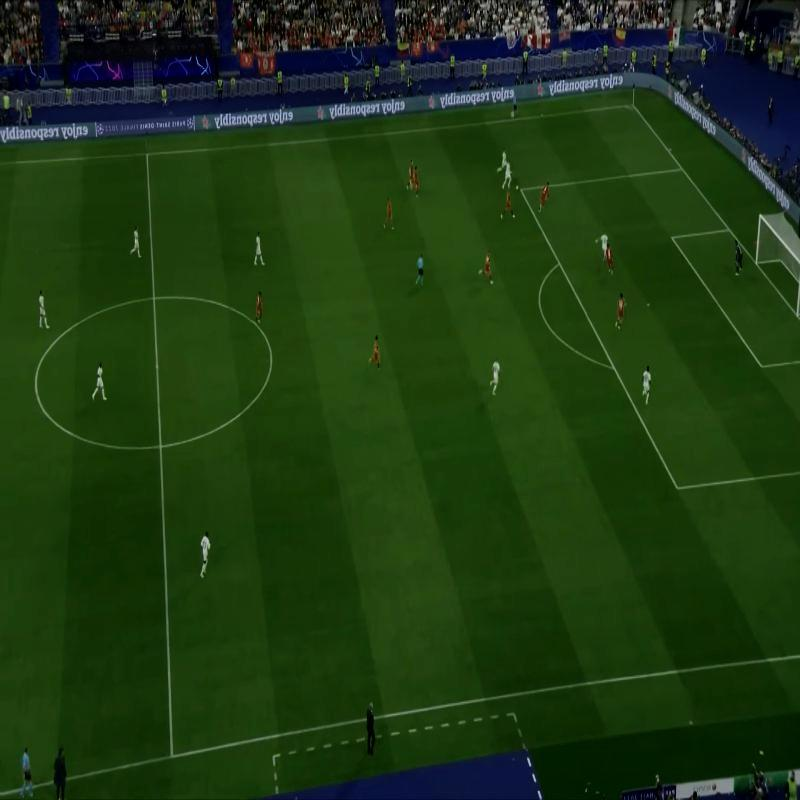1: (626, 97, 640, 113)
10: (550, 256, 568, 272)
11: (606, 358, 622, 378)
12: (668, 478, 686, 496)
13: (138, 148, 156, 164)
14: (146, 290, 162, 307)
15: (151, 436, 169, 454)
16: (163, 746, 179, 764)
2: (676, 158, 686, 178)
3: (723, 222, 735, 238)
7: (665, 231, 679, 244)
8: (752, 358, 770, 374)
9: (516, 180, 526, 200)
c: (26, 374, 44, 391), (263, 348, 281, 364)
